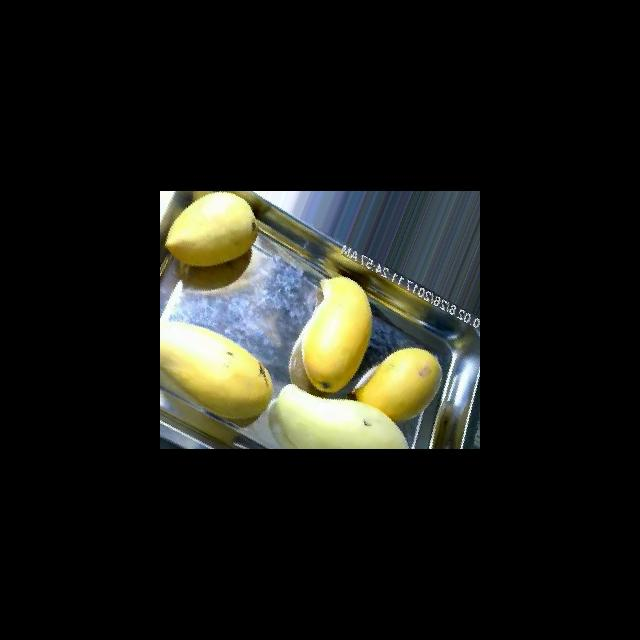mango: (160, 319, 273, 421), (274, 383, 410, 448), (300, 275, 372, 393), (164, 191, 258, 267)
